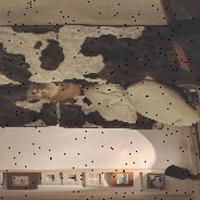asleep: (26, 83, 81, 104)
